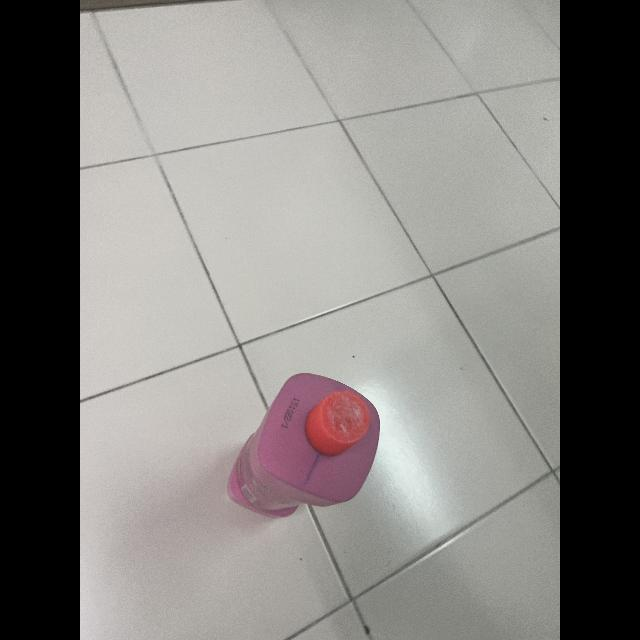chemical_plastic_bottle: (226, 366, 384, 524)
